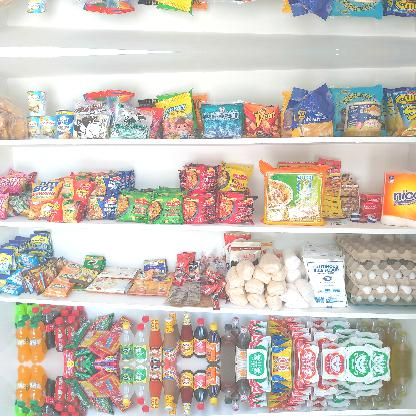Lady-s-Choice: (342, 101, 380, 136)
